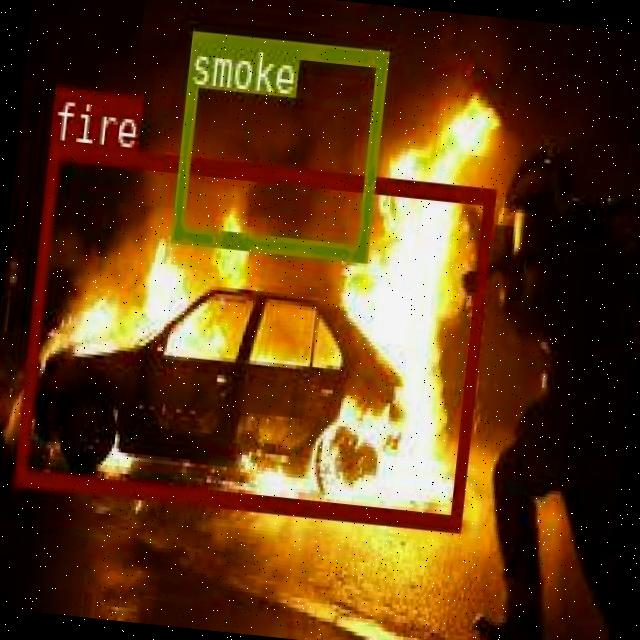fire: (12, 140, 492, 530)
smoke: (169, 28, 386, 258)
